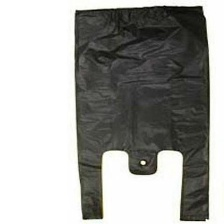plastic_bag: (63, 2, 215, 224)
